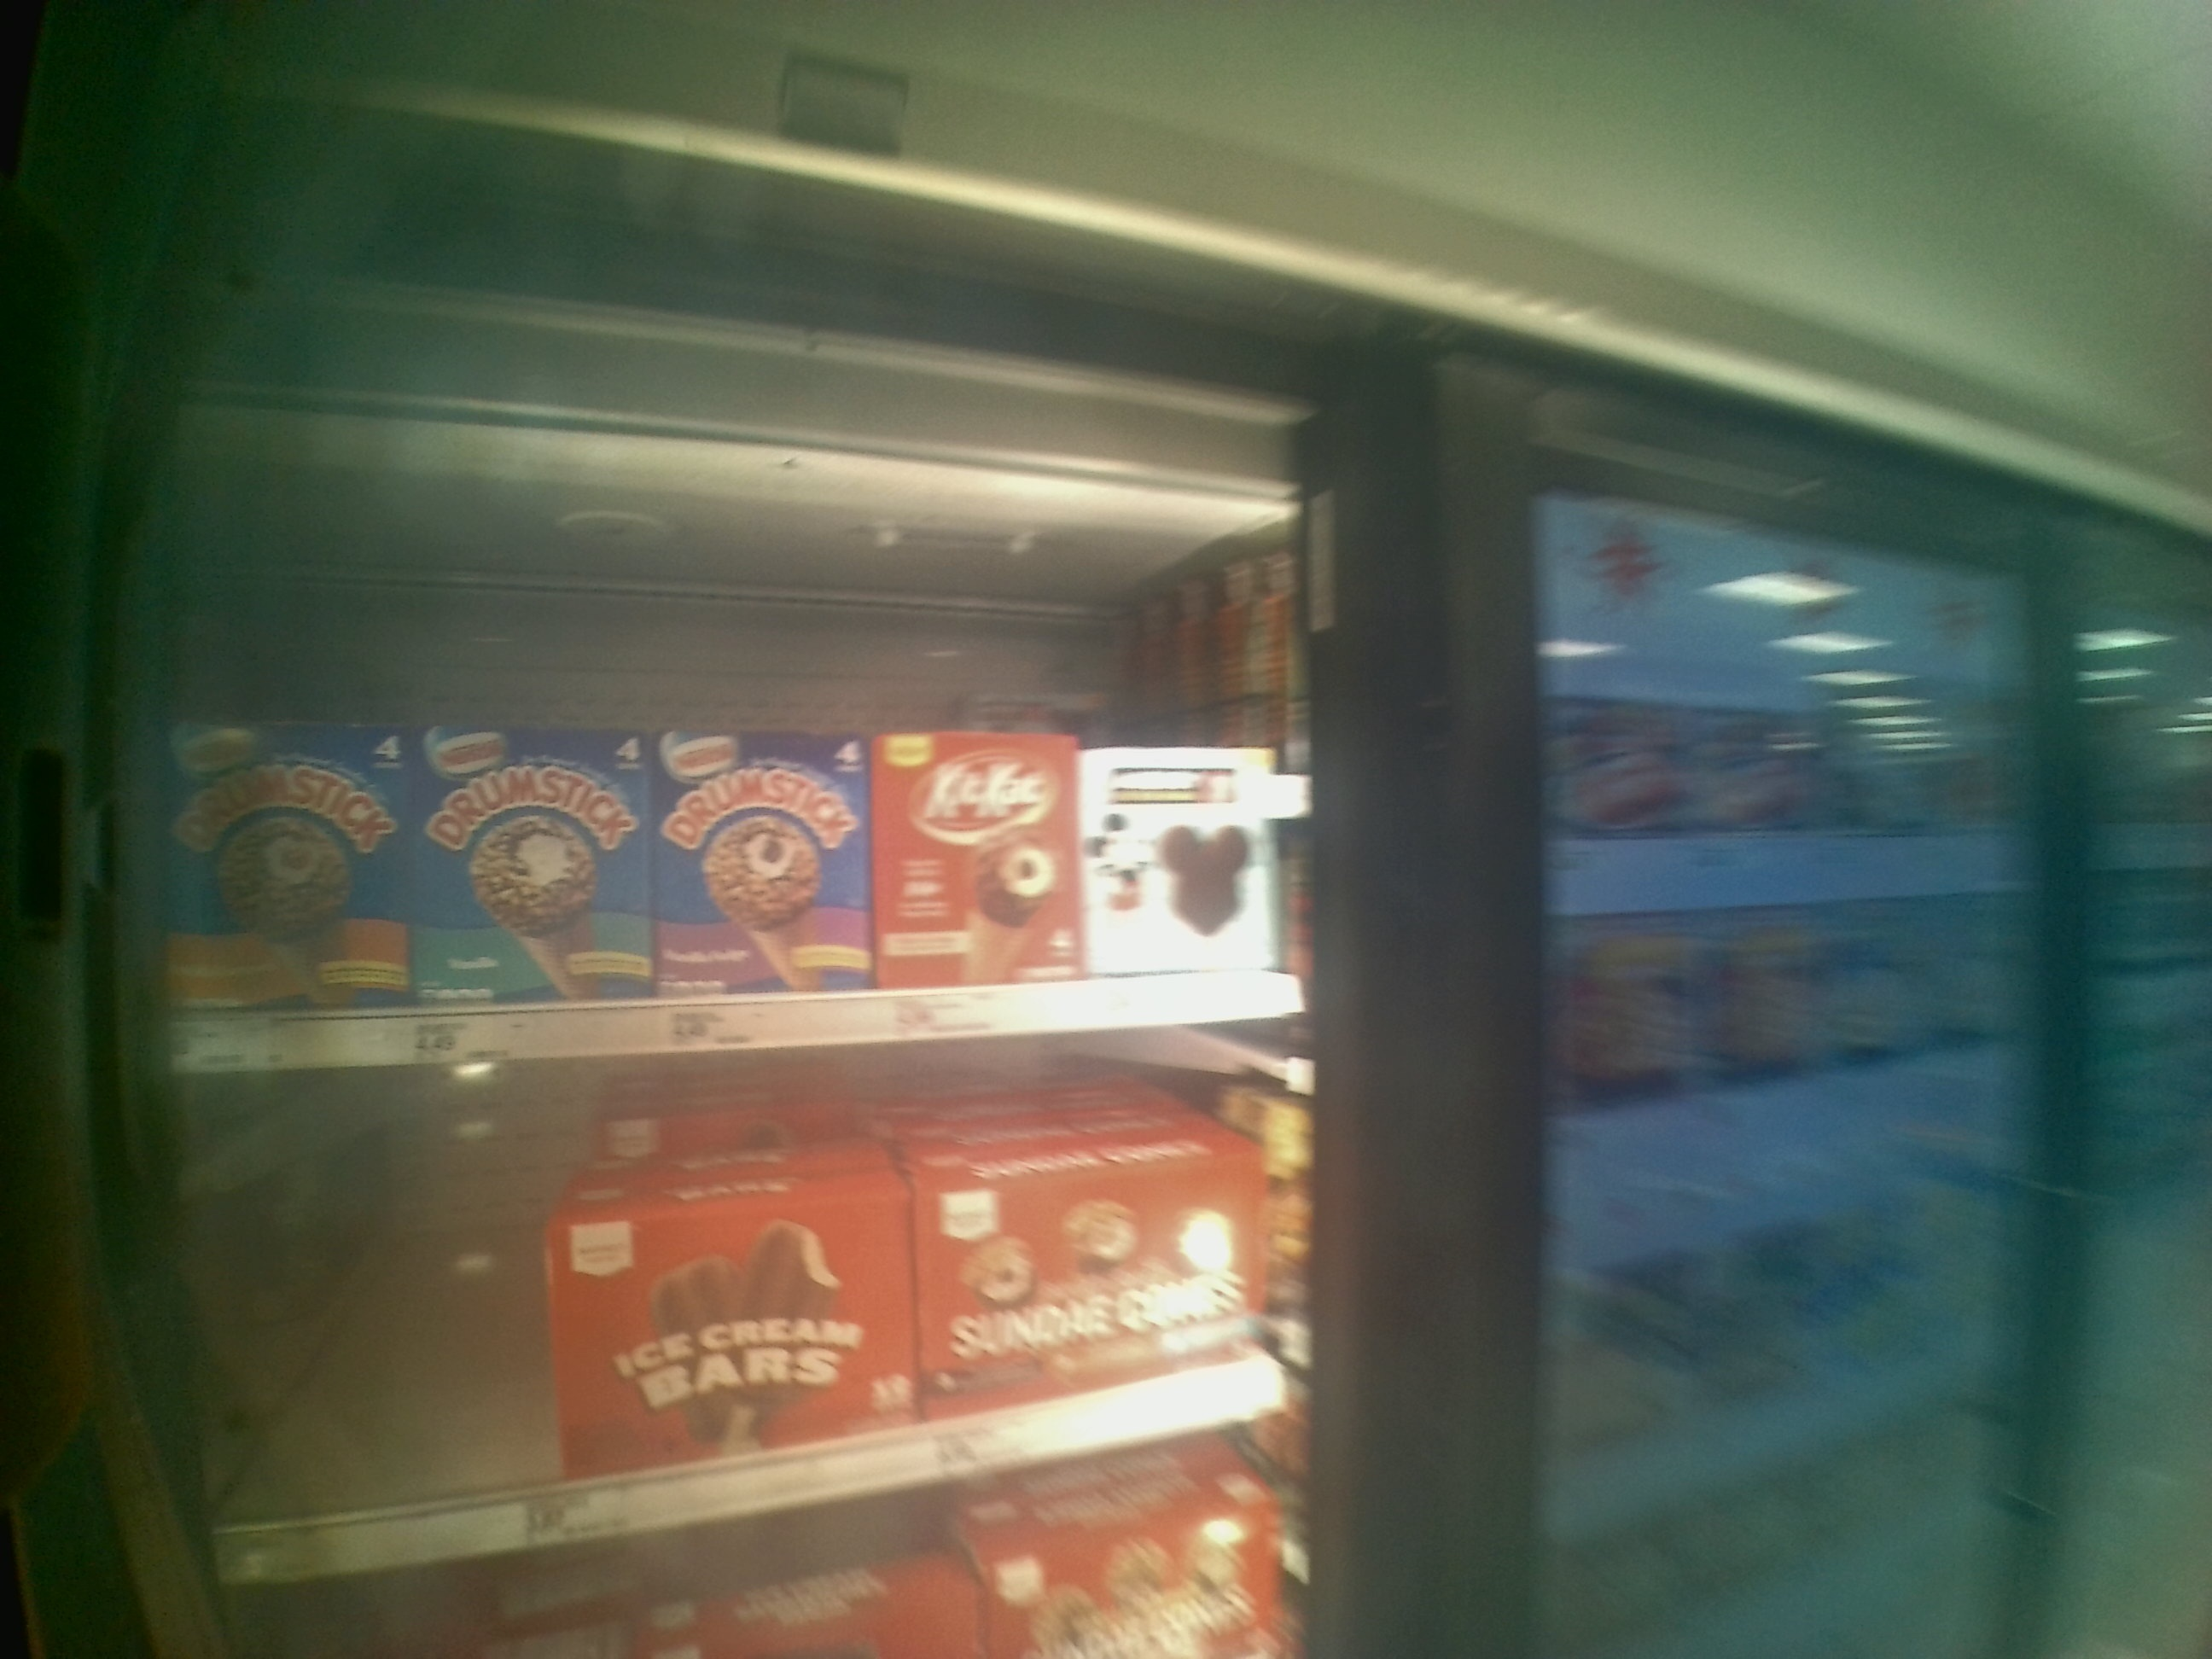shelf: (138, 1009, 1318, 1584), (132, 660, 1303, 1044)
